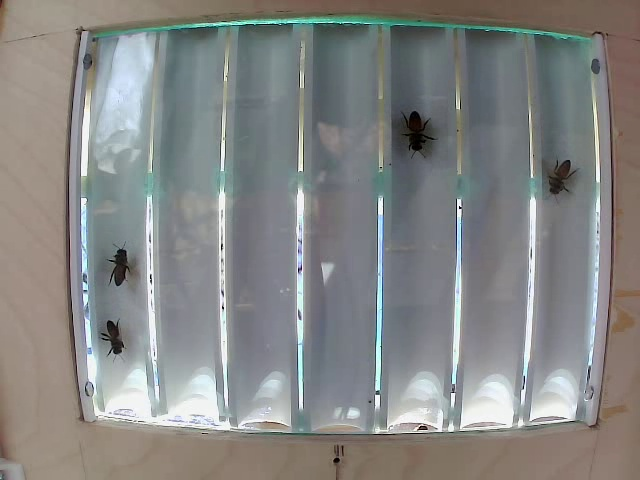bee: (95, 231, 144, 292), (388, 101, 433, 162), (532, 152, 575, 211), (94, 311, 136, 366)
